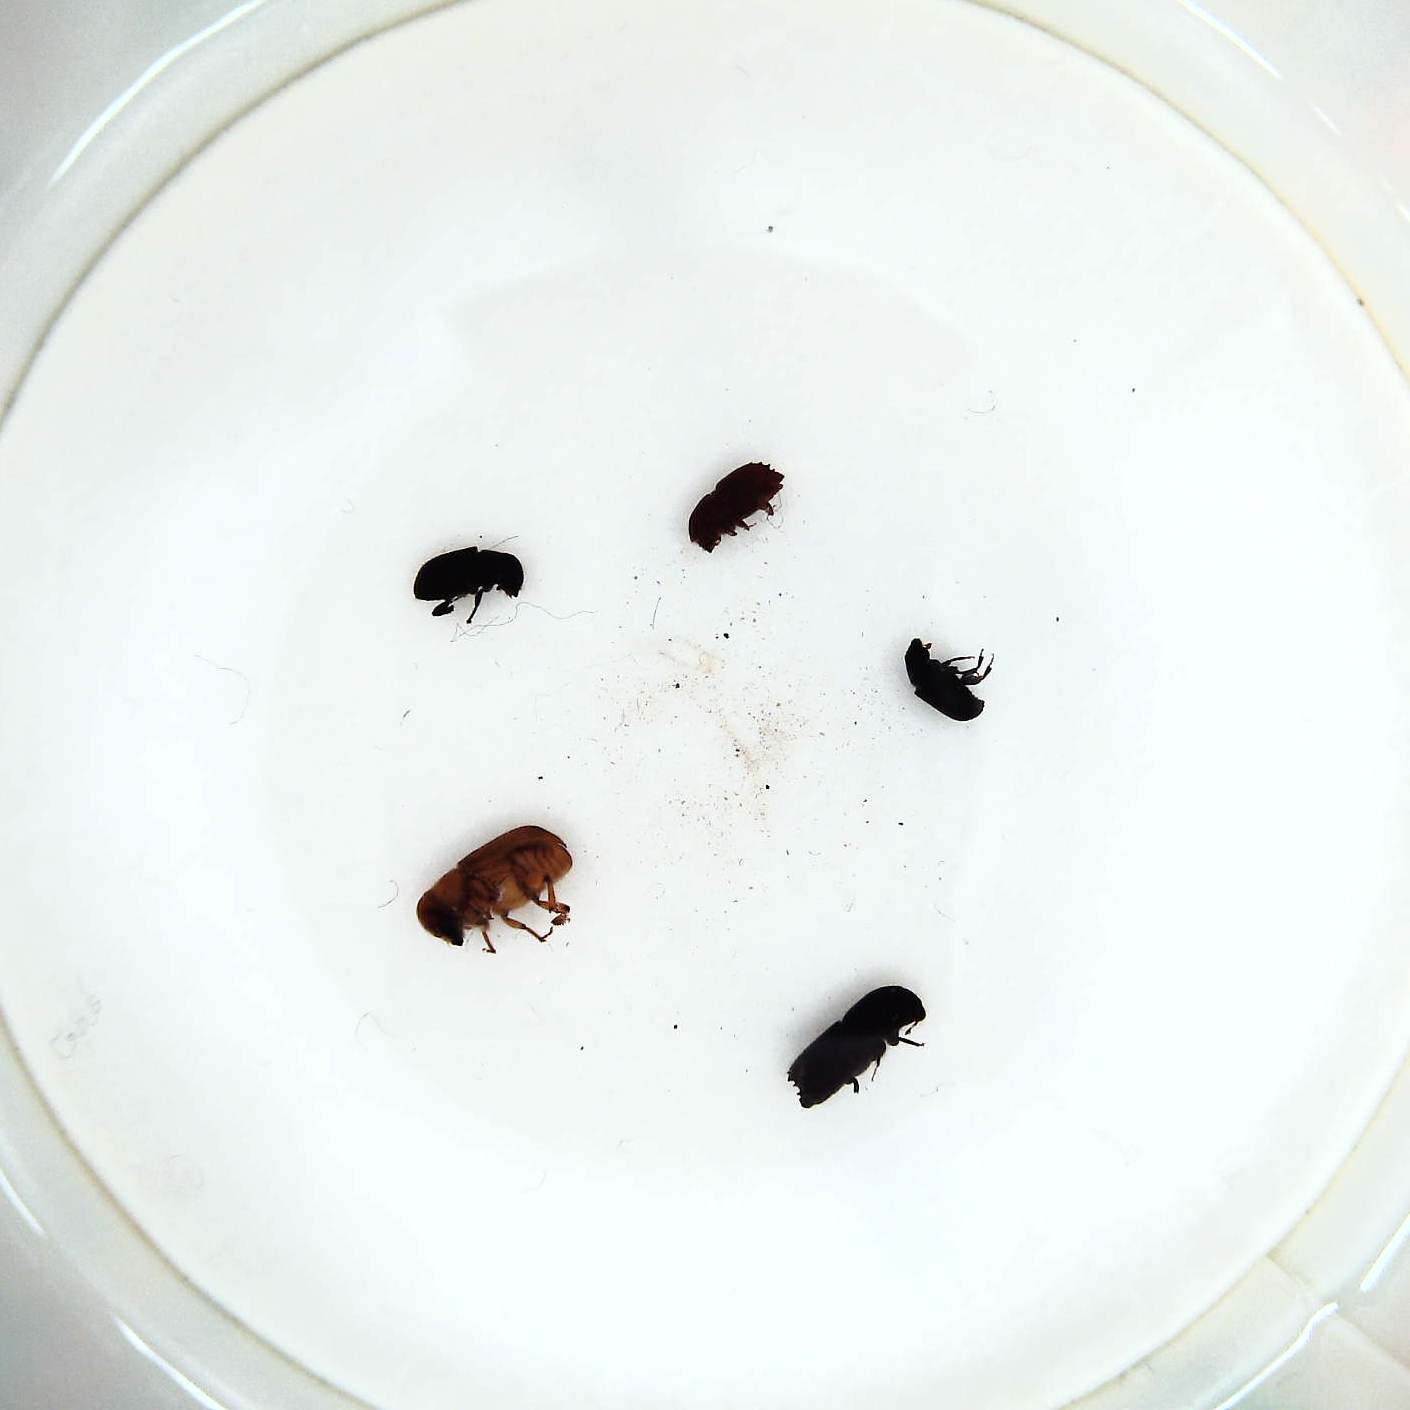Boerner: (782, 981, 935, 1113)
Leconte: (413, 815, 584, 957)
armandi: (411, 547, 532, 620)
coleoptera: (903, 631, 993, 724)
linnaeus: (686, 456, 789, 557)
